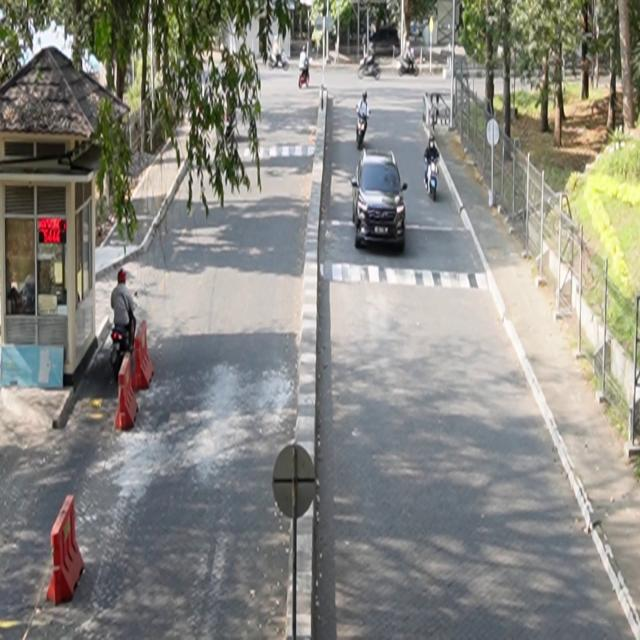car: (352, 149, 408, 252)
